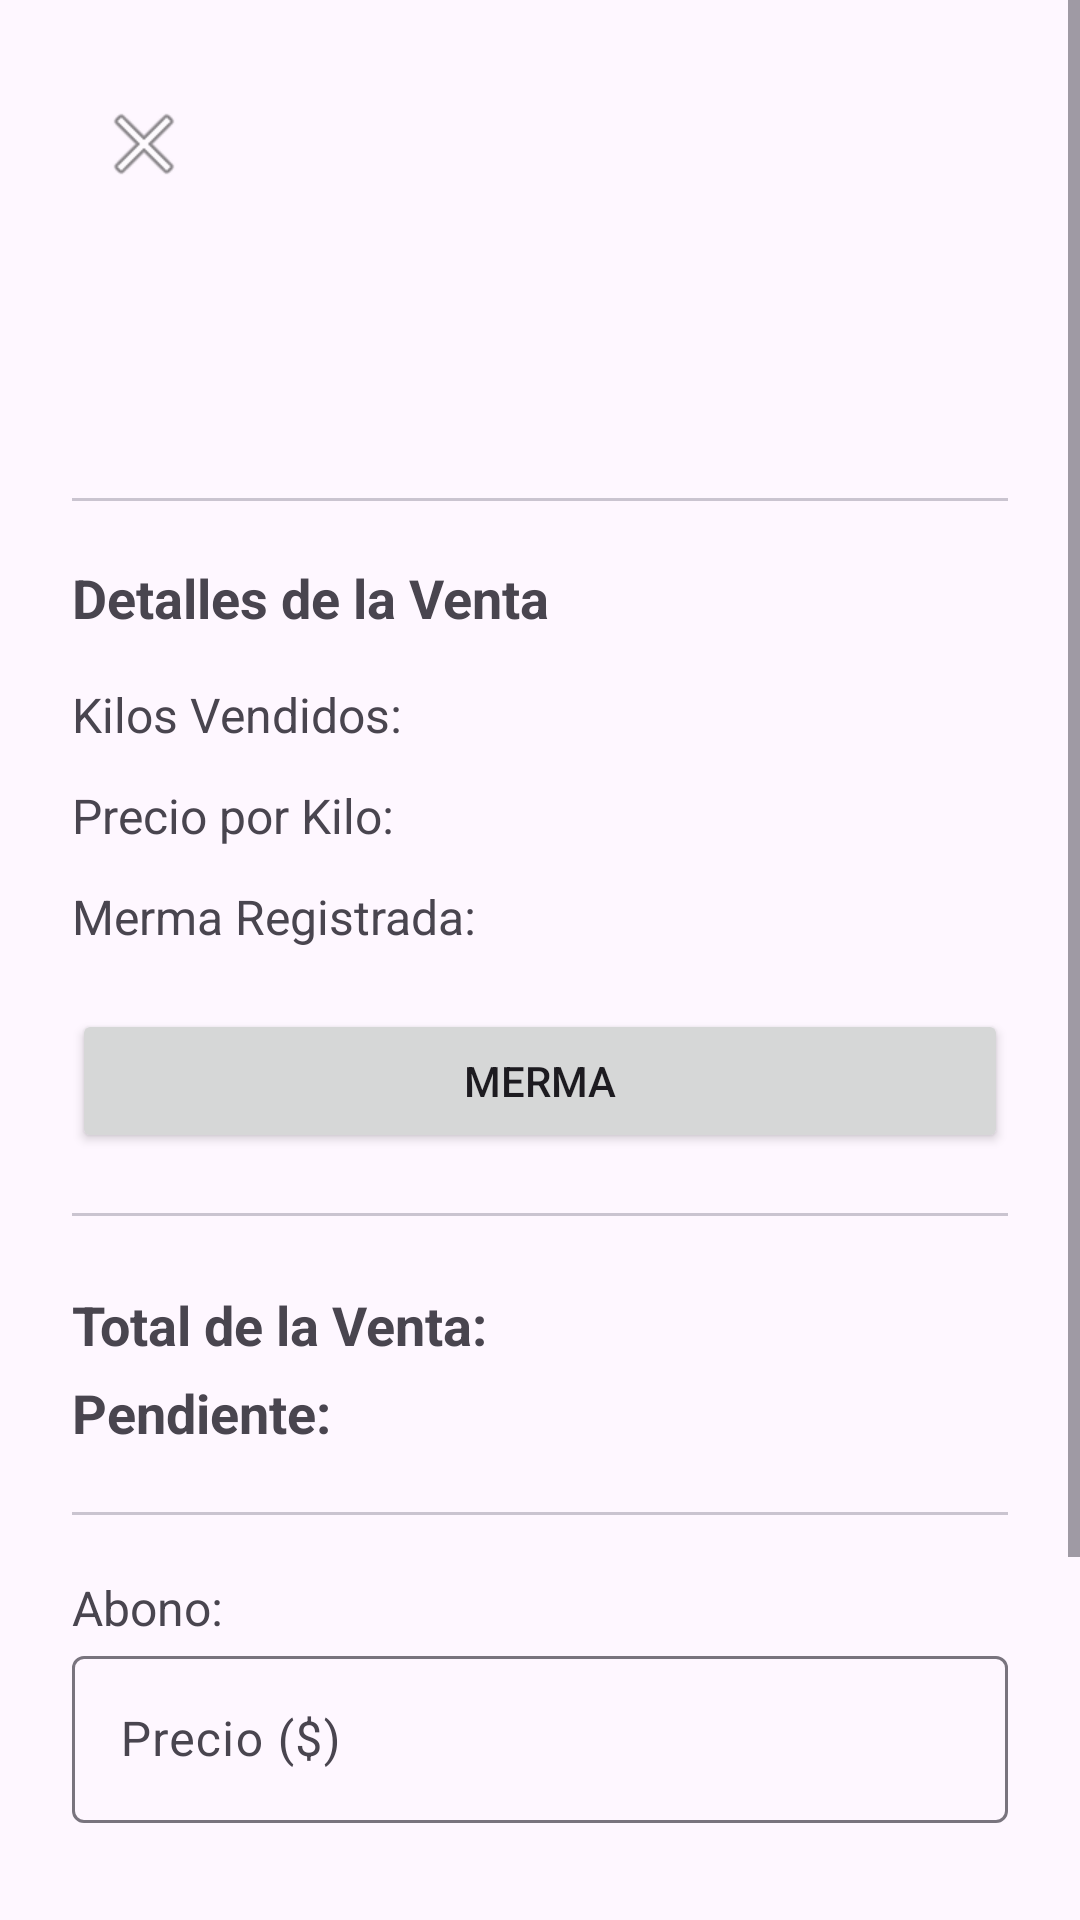

Icons on this 1080×1920 Android screen, each with its box as (x1, y1, x2, y2):
Cerrar: (114, 114, 174, 174)
